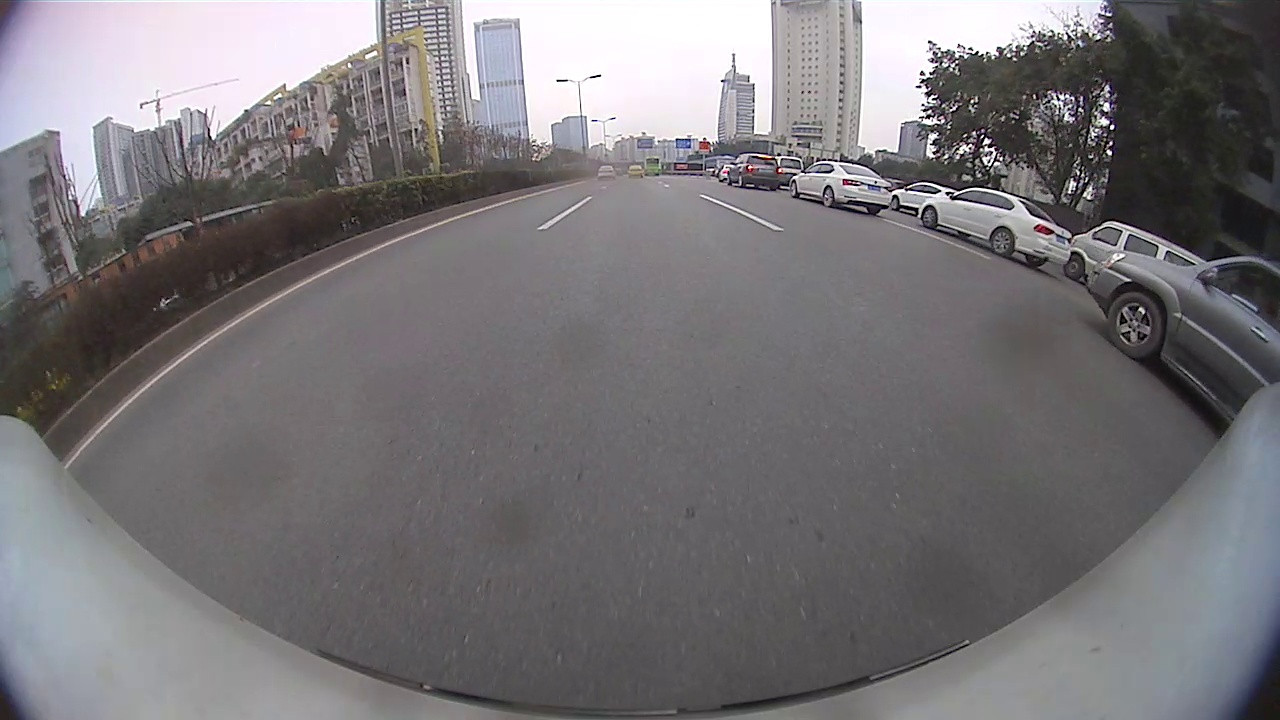bus: (643, 156, 662, 176)
car: (1089, 249, 1277, 423), (918, 186, 1071, 266), (1063, 220, 1208, 282), (789, 160, 892, 215), (890, 181, 957, 214), (727, 152, 781, 191), (772, 155, 805, 186), (716, 164, 734, 181), (598, 165, 616, 180), (626, 165, 644, 178)
front: (1109, 294, 1163, 364), (1065, 255, 1088, 281), (921, 207, 942, 232), (887, 199, 902, 213), (789, 179, 798, 202)
rear: (989, 226, 1016, 260), (821, 187, 839, 210)
